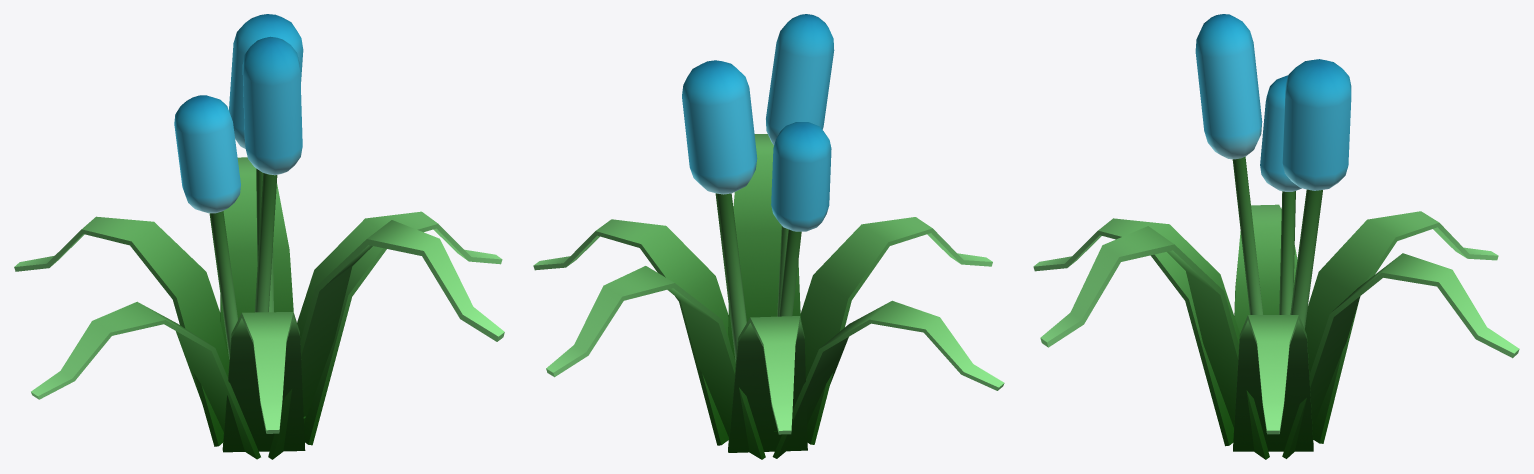
Rendered from Plant01_Blue.fbx.
The picture shows the model from 3 angles, left to right: view 1: azimuth 30°, elevation 25°; view 2: azimuth 150°, elevation 25°; view 3: azimuth 270°, elevation 25°; orthographic projection. The views are drawn at different scales.
Parts seen in each view (by area): view 1: pasted__Plane.001, pasted__Plane.008, pasted__Plane.004, pasted__pSphere3, pasted__Plane.005, pasted__pSphere2, pasted__Plane.006, pasted__Plane.007, pasted__pSphere1, pasted__Cylinder.017, pasted__Cylinder.016, pasted__Cylinder.015; view 2: pasted__Plane.004, pasted__pSphere1, pasted__Plane.006, pasted__Plane.001, pasted__Plane.008, pasted__pSphere3, pasted__Plane.007, pasted__pSphere2, pasted__Plane.005, pasted__Cylinder.015, pasted__Cylinder.016; view 3: pasted__Plane.007, pasted__Plane.008, pasted__pSphere1, pasted__Plane.004, pasted__pSphere3, pasted__Plane.006, pasted__Plane.001, pasted__Plane.005, pasted__pSphere2, pasted__Cylinder.015, pasted__Cylinder.017, pasted__Cylinder.016.
Boxes of the visible parts, bbox=[...] form: pasted__Plane.001: bbox=[222, 312, 305, 452]; pasted__Plane.008: bbox=[268, 220, 504, 459]; pasted__Plane.004: bbox=[14, 216, 229, 446]; pasted__pSphere3: bbox=[242, 36, 302, 175]; pasted__Plane.005: bbox=[31, 301, 260, 459]; pasted__pSphere2: bbox=[174, 95, 240, 213]; pasted__Plane.006: bbox=[220, 157, 293, 359]; pasted__Plane.007: bbox=[297, 211, 502, 445]; pasted__pSphere1: bbox=[229, 14, 303, 148]; pasted__Cylinder.017: bbox=[254, 173, 277, 312]; pasted__Cylinder.016: bbox=[209, 211, 237, 359]; pasted__Cylinder.015: bbox=[256, 168, 273, 312]; pasted__Plane.004: bbox=[728, 316, 807, 452]; pasted__pSphere1: bbox=[682, 60, 757, 194]; pasted__Plane.006: bbox=[546, 266, 765, 459]; pasted__Plane.001: bbox=[800, 217, 992, 444]; pasted__Plane.008: bbox=[728, 134, 800, 359]; pasted__pSphere3: bbox=[766, 14, 834, 145]; pasted__Plane.007: bbox=[533, 219, 730, 445]; pasted__pSphere2: bbox=[771, 122, 831, 231]; pasted__Plane.005: bbox=[772, 300, 1004, 458]; pasted__Cylinder.015: bbox=[715, 193, 746, 361]; pasted__Cylinder.016: bbox=[779, 229, 801, 316]; pasted__Plane.007: bbox=[1233, 315, 1313, 451]; pasted__Plane.008: bbox=[1040, 226, 1269, 459]; pasted__pSphere1: bbox=[1282, 59, 1351, 190]; pasted__Plane.004: bbox=[1305, 211, 1498, 443]; pasted__pSphere3: bbox=[1195, 14, 1262, 159]; pasted__Plane.006: bbox=[1282, 253, 1519, 458]; pasted__Plane.001: bbox=[1033, 218, 1239, 446]; pasted__Plane.005: bbox=[1234, 204, 1297, 333]; pasted__pSphere2: bbox=[1260, 75, 1301, 191]; pasted__Cylinder.015: bbox=[1290, 189, 1322, 329]; pasted__Cylinder.017: bbox=[1232, 156, 1263, 314]; pasted__Cylinder.016: bbox=[1279, 191, 1295, 314].
Size of the model in its own units: 46.2 by 39.31 by 41.9.
